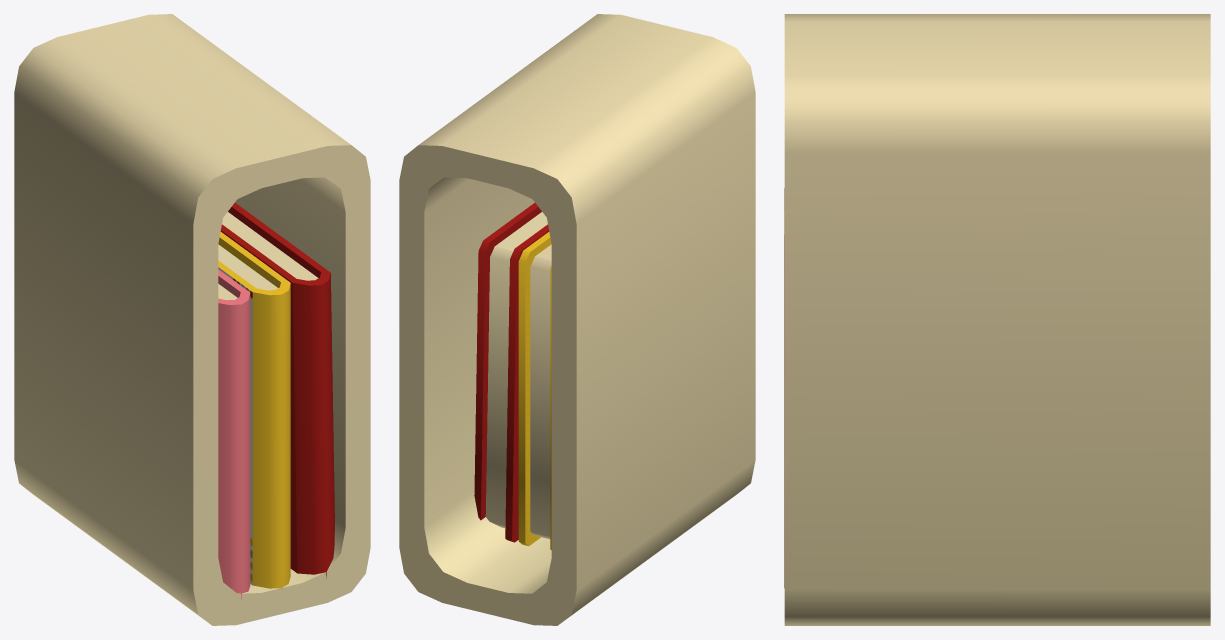
File: Modular_bookshelf_part_5.FBX
3 renders of one model, left to right at view 1: azimuth 30°, elevation 25°; view 2: azimuth 150°, elevation 25°; view 3: azimuth 270°, elevation 25°, orthographic. The views are drawn at different scales.
Parts seen in each view (by area): view 1: Modular_bookshelf_part_5; view 2: Modular_bookshelf_part_5; view 3: Modular_bookshelf_part_5.
Part boxes in pixels (box(x1,y1,x2,y2)): Modular_bookshelf_part_5: box(14, 14, 370, 625); Modular_bookshelf_part_5: box(399, 14, 755, 625); Modular_bookshelf_part_5: box(784, 14, 1210, 625).
Bounding box in the file's own units: 13.04 × 32.13 × 22.84.
1 material, 1 textured.
